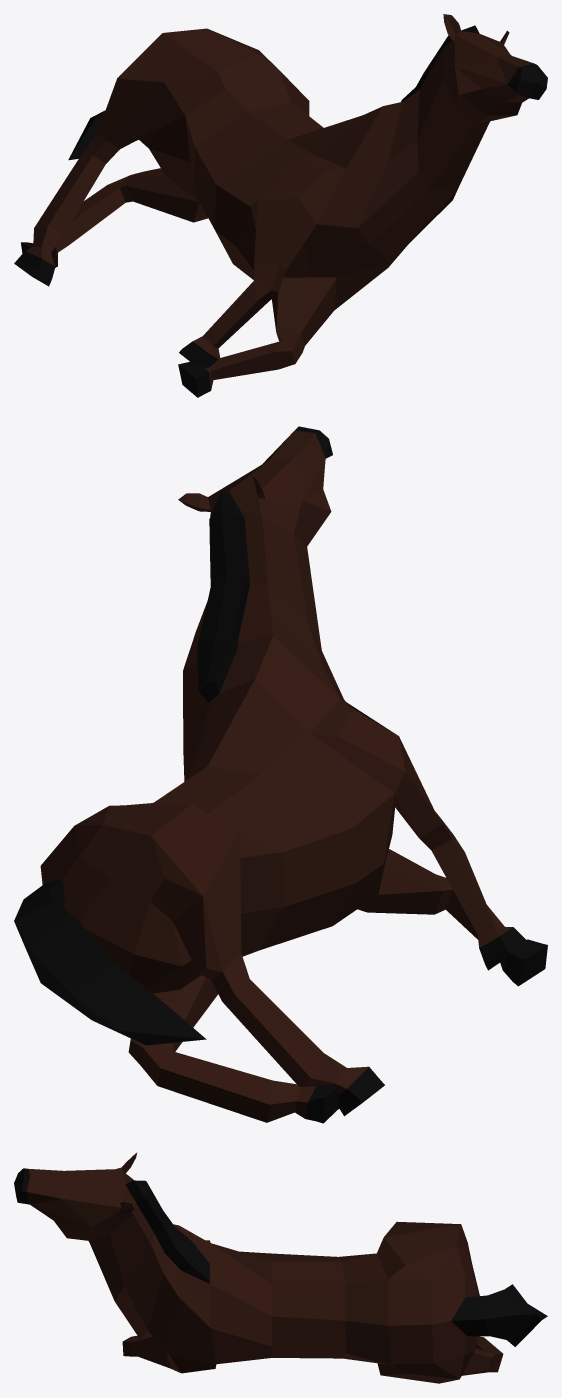
The model's file is Horse_000012.obj.
3 renders of one model, top to bottom at view 1: azimuth 30°, elevation 25°; view 2: azimuth 150°, elevation 25°; view 3: azimuth 270°, elevation 25°, orthographic. The views are drawn at different scales.
Visible parts, largest first — view 1: Horse_Cylinder; view 2: Horse_Cylinder; view 3: Horse_Cylinder.
Part boxes in pixels (x1=…): Horse_Cylinder: x1=14, y1=14, x2=547, y2=397; Horse_Cylinder: x1=14, y1=426, x2=547, y2=1123; Horse_Cylinder: x1=14, y1=1152, x2=547, y2=1383.
Size of the model in its own units: 5.53 by 5.44 by 8.97.
